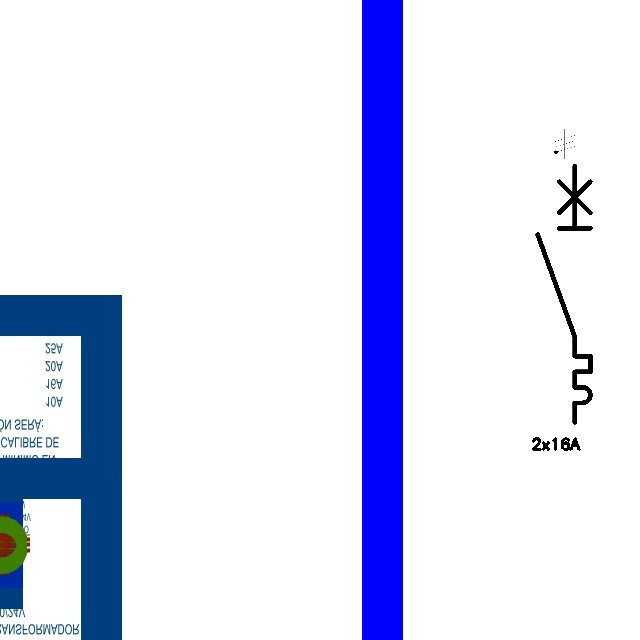interruptor_termomagnetico: (531, 159, 597, 428)
